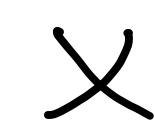mult: (47, 26, 154, 121)
